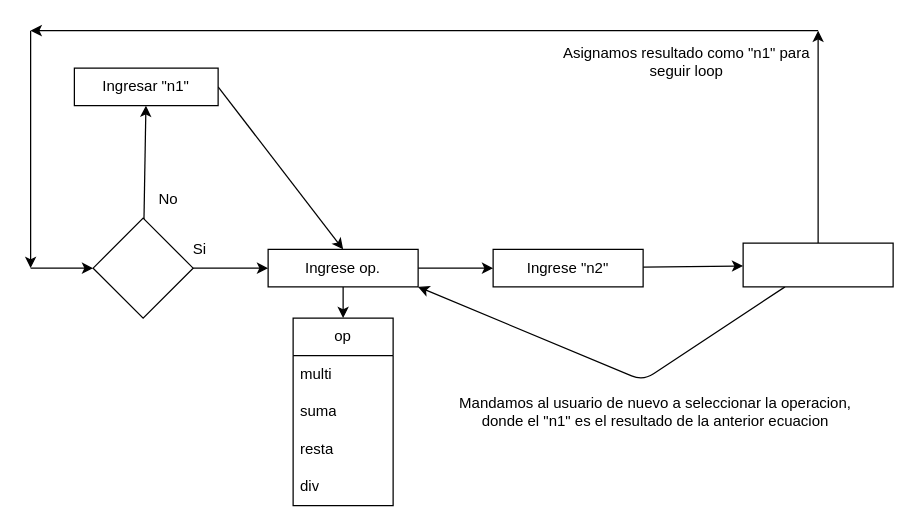
This 915x528 diagram has some shape labels left out. Here are the shapes that lost their labels. From the top down, the centre of each, then its label:
point (142, 267): Hay "n1"
point (817, 264): Mostrar resultado
